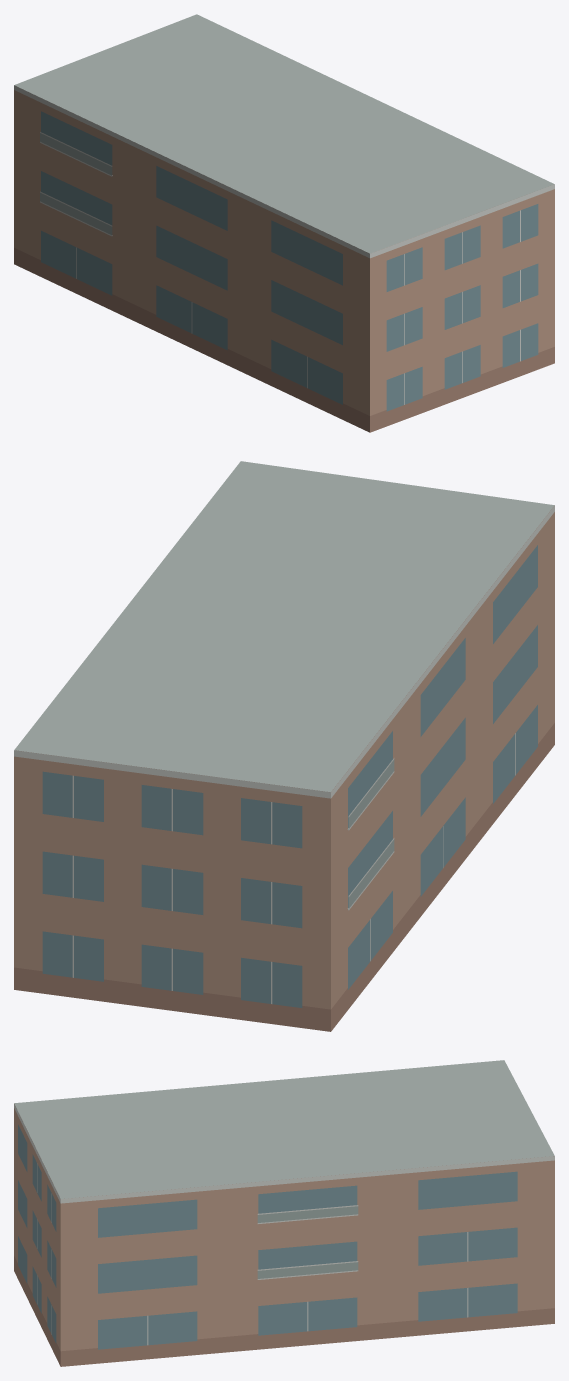
File: survey-upis-33010341.glb
The picture shows the model from 3 angles, top to bottom: view 1: azimuth 30°, elevation 25°; view 2: azimuth 150°, elevation 25°; view 3: azimuth 270°, elevation 25°; orthographic projection. The views are drawn at different scales.
Visible parts, largest first — view 1: survey-upis-33010341.tmp; view 2: survey-upis-33010341.tmp; view 3: survey-upis-33010341.tmp.
Boxes of the visible parts, x1,y1,x2,y2 form: survey-upis-33010341.tmp: [14, 14, 554, 432]; survey-upis-33010341.tmp: [14, 461, 554, 1031]; survey-upis-33010341.tmp: [14, 1060, 554, 1366].
Size of the model in its own units: 16.27 by 9.15 by 26.74.
